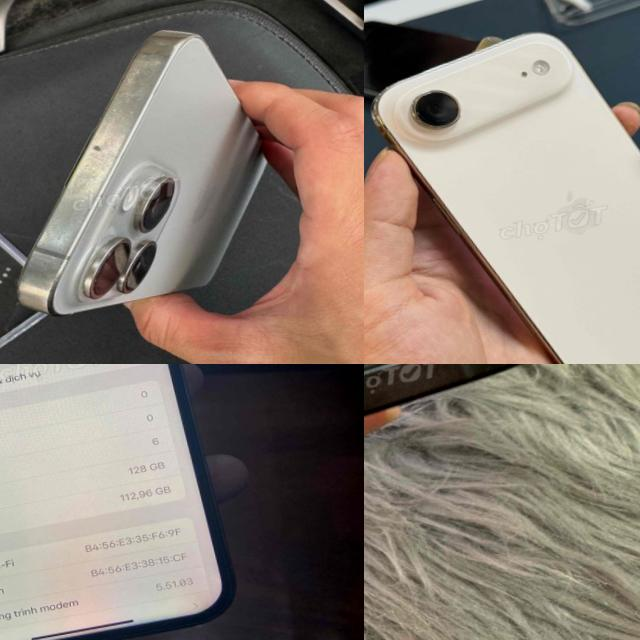gen_12_13: (0, 364, 248, 640)
gen_15: (0, 13, 303, 321)
gen_17: (364, 0, 640, 364)
scratch: (4, 46, 237, 268), (427, 364, 530, 392)
